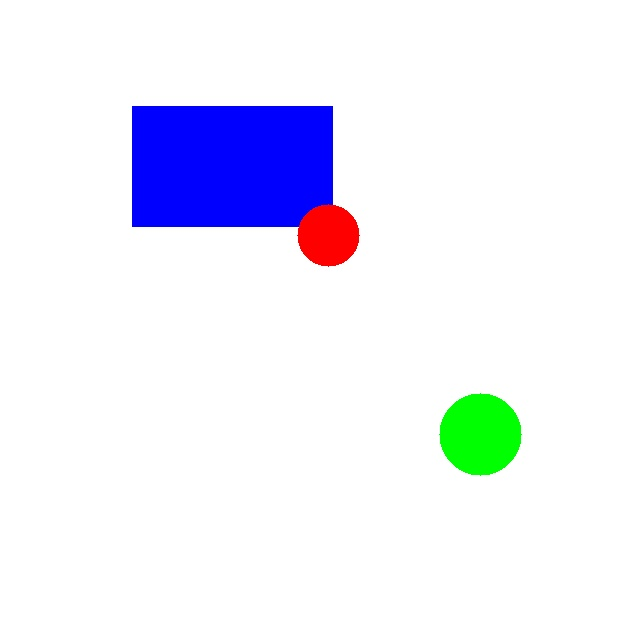cartao: (132, 106, 332, 226)
rosca_externa: (439, 393, 521, 475)
rosca_interna: (297, 204, 359, 266)
